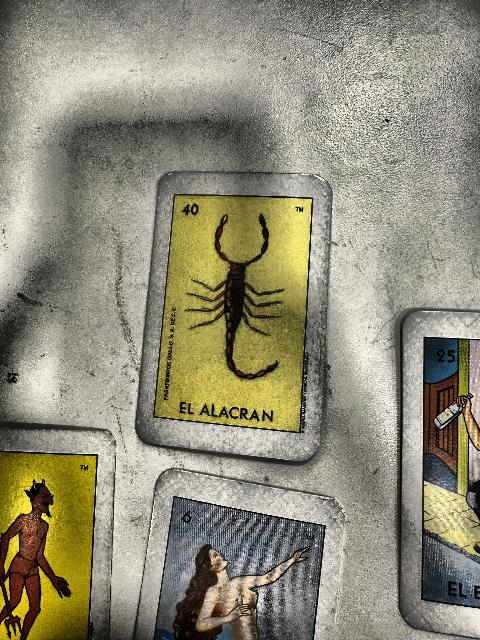El Alacran: (154, 194, 312, 431)
